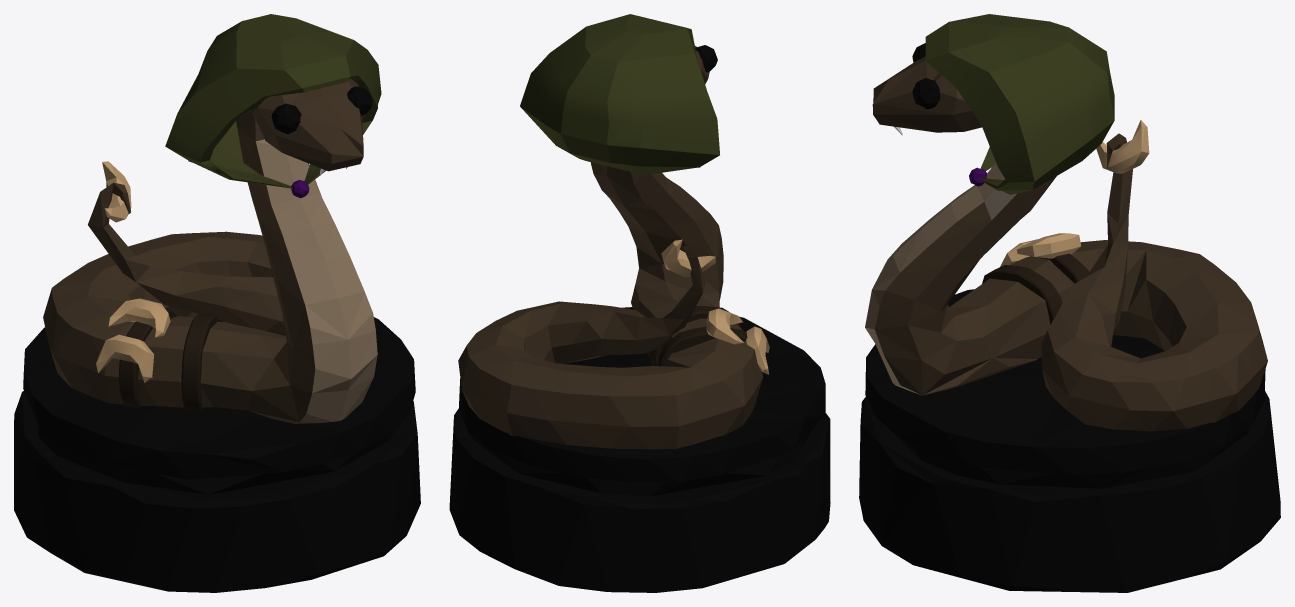
The model's file is snekkk.fbx.
The picture shows the model from 3 angles, left to right: view 1: azimuth 30°, elevation 25°; view 2: azimuth 150°, elevation 25°; view 3: azimuth 270°, elevation 25°; orthographic projection. The views are drawn at different scales.
Visible parts, largest first — view 1: polySurface15; view 2: polySurface15; view 3: polySurface15.
Boxes of the visible parts, bbox=[...] form: polySurface15: bbox=[14, 14, 420, 592]; polySurface15: bbox=[449, 14, 830, 592]; polySurface15: bbox=[859, 14, 1280, 592].
Size of the model in its own units: 77.6 by 101 by 77.89.
